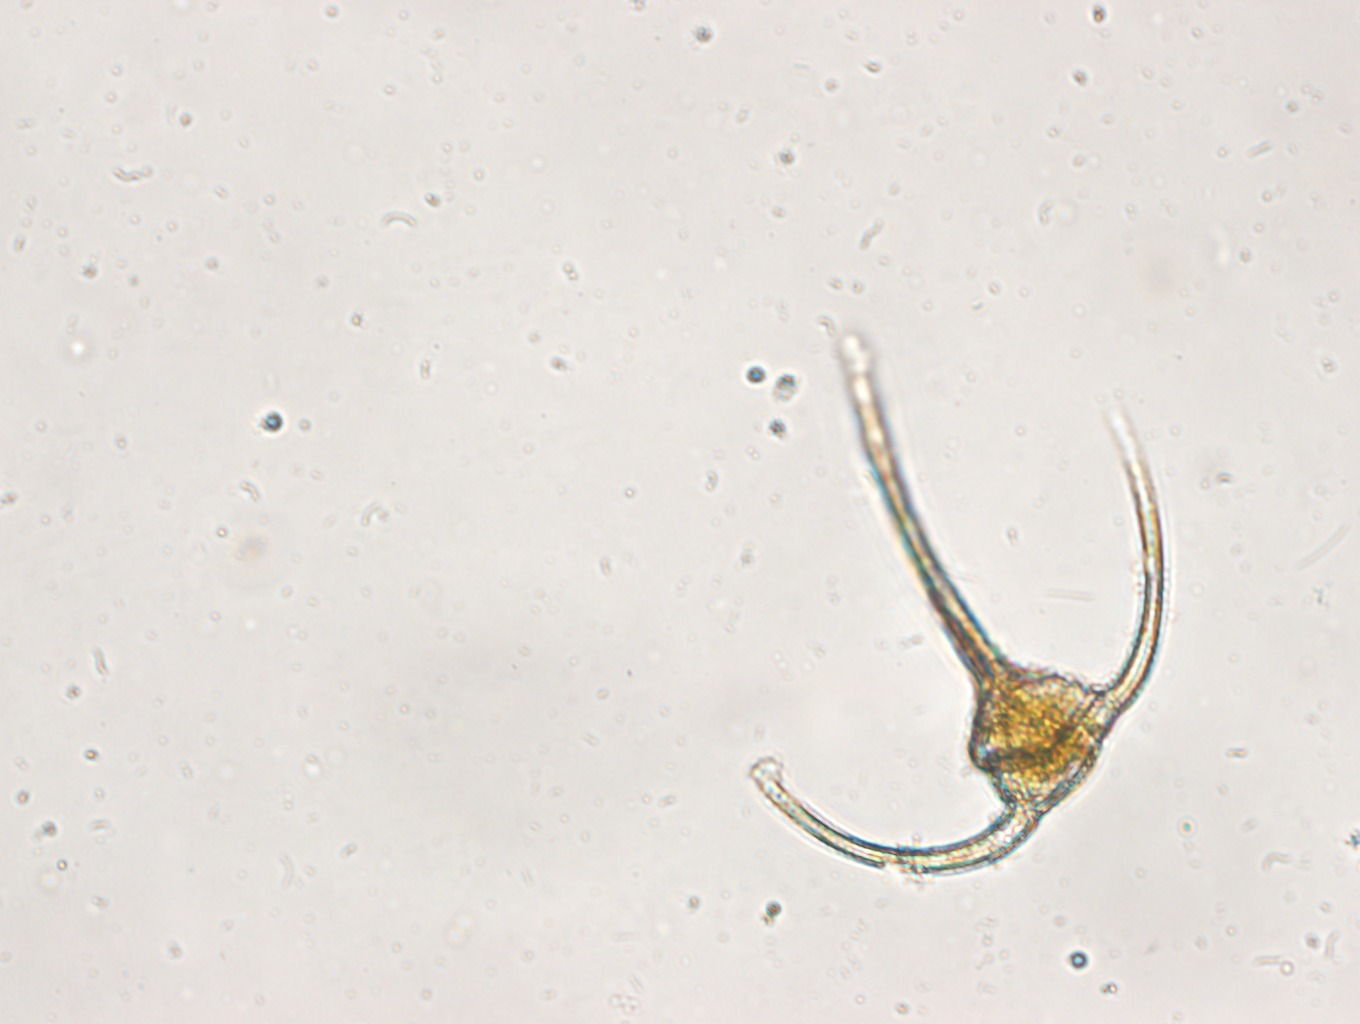ceratium trichoceros: (739, 297, 1176, 892)
